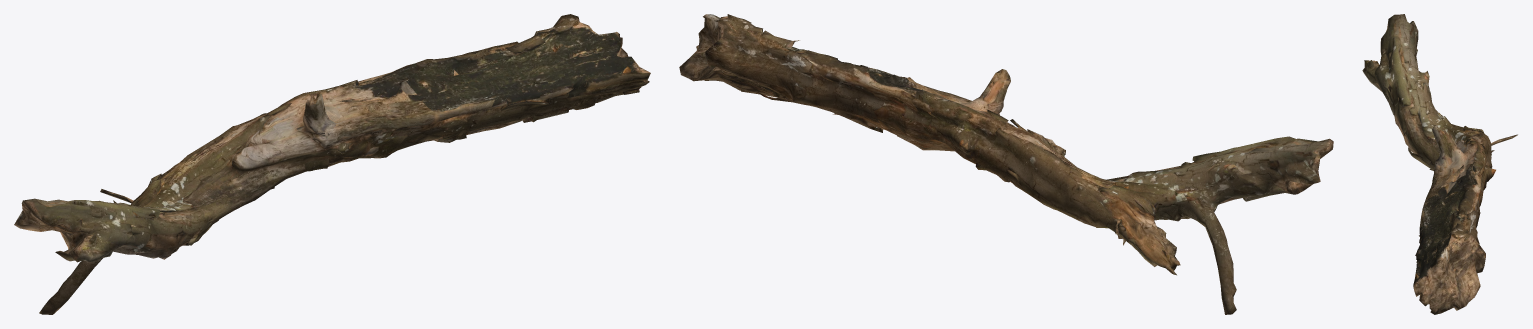
Rendered from dead_tree_trunk_02.glb.
3 renders of one model, left to right at view 1: azimuth 30°, elevation 25°; view 2: azimuth 150°, elevation 25°; view 3: azimuth 270°, elevation 25°, orthographic. The views are drawn at different scales.
Parts seen in each view (by area): view 1: dead_tree_trunk_02; view 2: dead_tree_trunk_02; view 3: dead_tree_trunk_02.
Boxes of the visible parts, <box> form: dead_tree_trunk_02: <box>14,14,650,314</box>; dead_tree_trunk_02: <box>679,14,1333,314</box>; dead_tree_trunk_02: <box>1362,14,1517,314</box>.
Size of the model in its own units: 4.06 by 1.06 by 1.06.
Materials: 1 (1 with a texture image).
